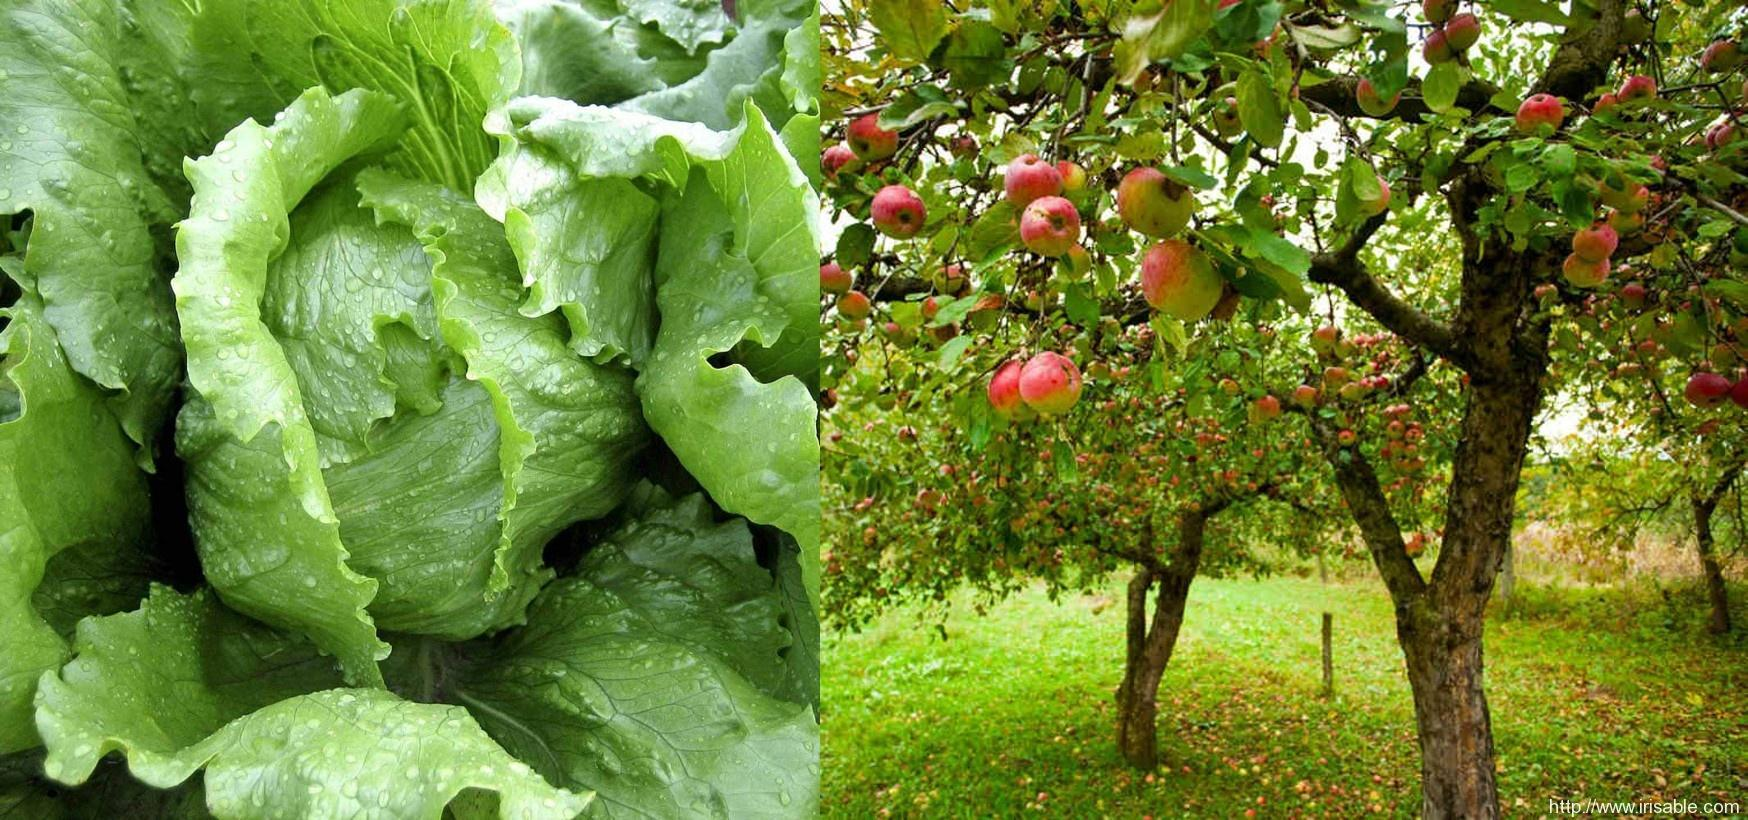apple: (1142, 240, 1225, 324), (1119, 168, 1196, 242), (1019, 353, 1082, 417), (1019, 197, 1084, 258), (1002, 155, 1065, 208), (870, 186, 928, 241), (985, 362, 1031, 422), (847, 115, 900, 163), (1058, 164, 1100, 218), (1516, 95, 1566, 138), (1565, 252, 1613, 291), (1572, 223, 1620, 261), (1445, 14, 1483, 55)
